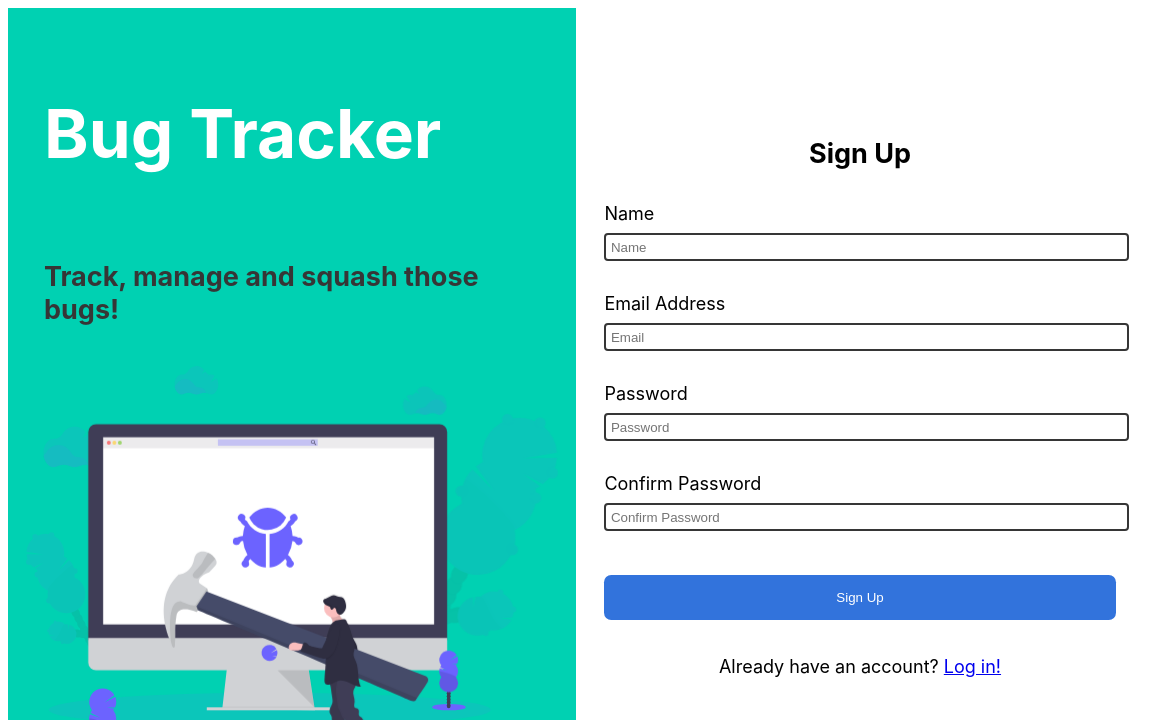
Test: Register Page › form validation - require fields
This screenshot has width=1152, height=720.
Click the button with test id "submit-register" at {"x": 860, "y": 598}, box [604,575,1115,620]
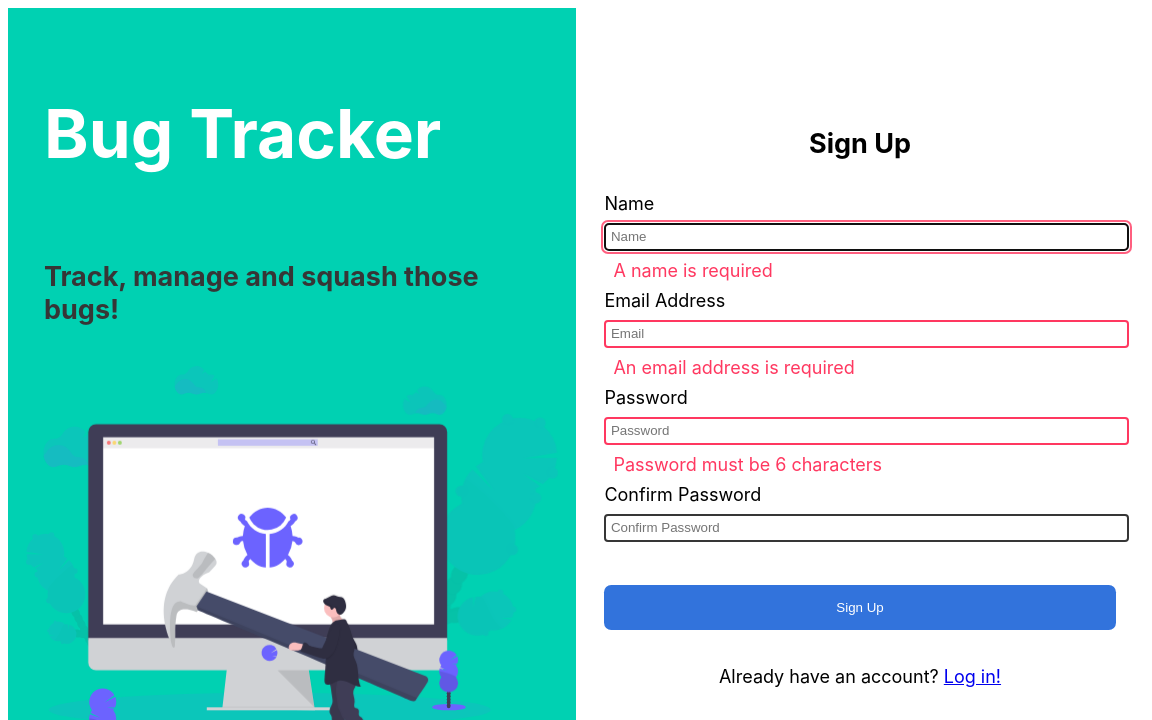
Check: the text "A name is required" is shown, box [613,260,773,281]
Check: the text "An email address is required" is shown, box [613,357,855,378]
Check: the text "Password must be 6 characters" is shown, box [613,454,882,475]
